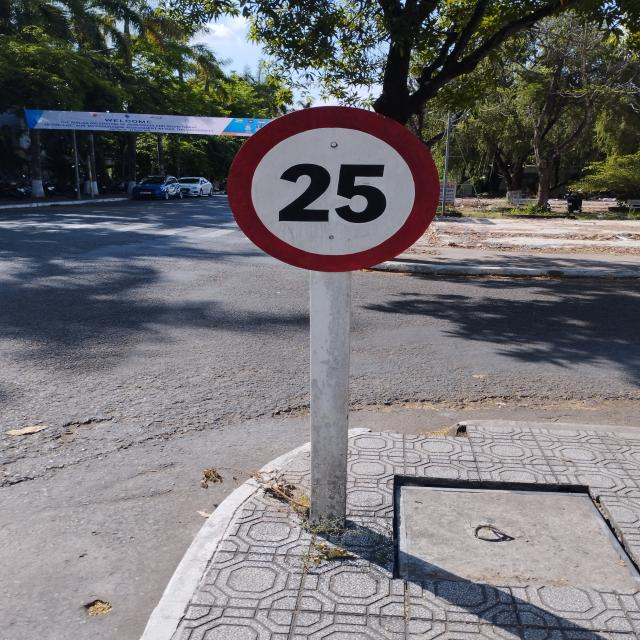Tre_Em: (226, 105, 444, 271)
